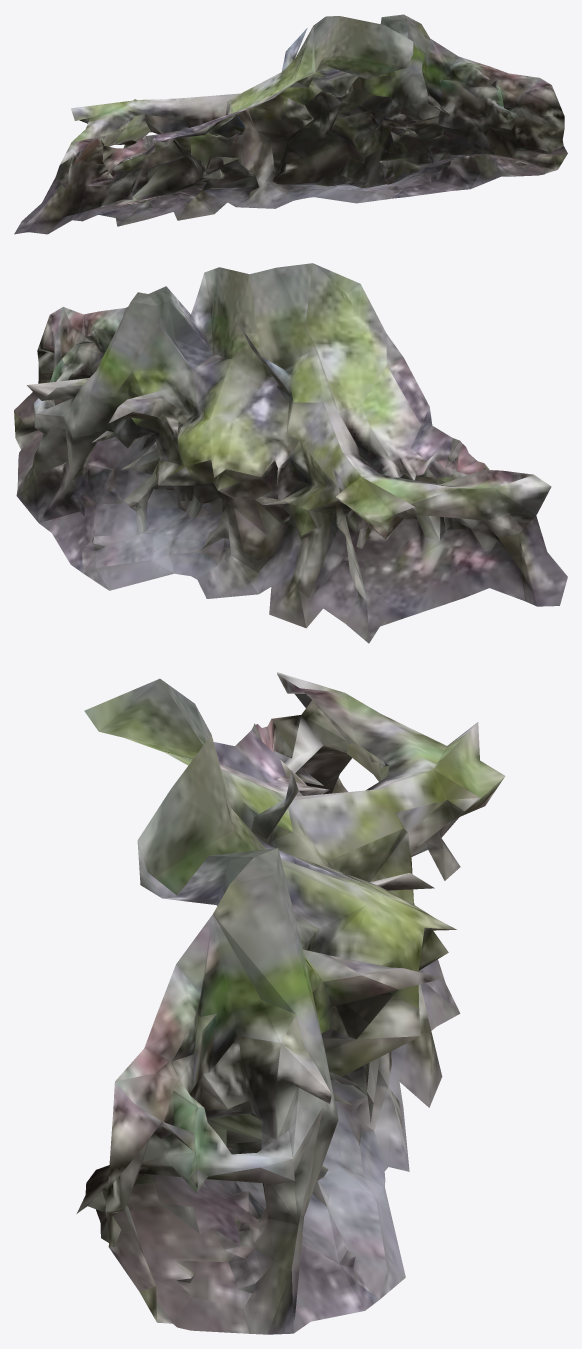
The model's file is PRP_GiantRoot_lod.glb.
3 views of the same model, one above another, from view 1: azimuth 30°, elevation 25°; view 2: azimuth 150°, elevation 25°; view 3: azimuth 270°, elevation 25° (orthographic). The views are drawn at different scales.
Visible parts, largest first — view 1: Object_2; view 2: Object_2; view 3: Object_2.
Boxes of the visible parts, bbox=[...] form: Object_2: bbox=[14, 14, 567, 234]; Object_2: bbox=[14, 263, 567, 643]; Object_2: bbox=[76, 672, 505, 1334].
Bounding box in the file's own units: 9.39 × 4.46 × 3.49.
Materials: 1 (1 with a texture image).
